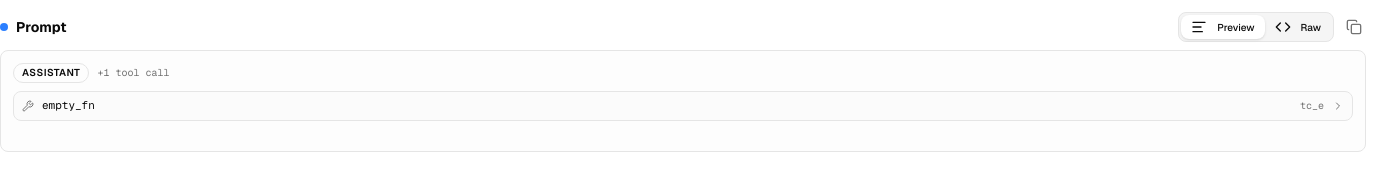
Test: RequestPreview › LogToolCallCard with empty args shows empty object '{}'
Click the button "empty_fn tc_e" at (68, 105), box [14,92,1352,120]
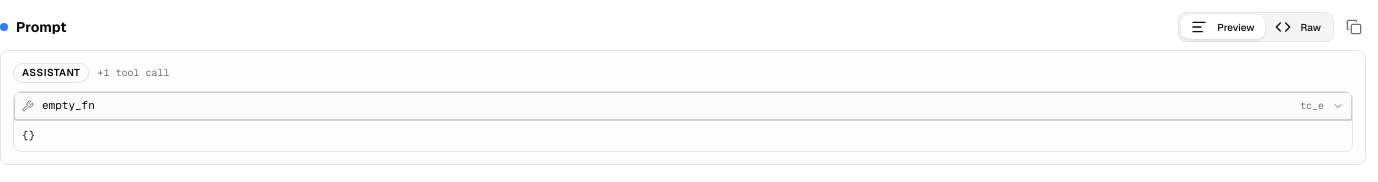
Expected: the text "{}" is shown, [14,120,1352,151]
